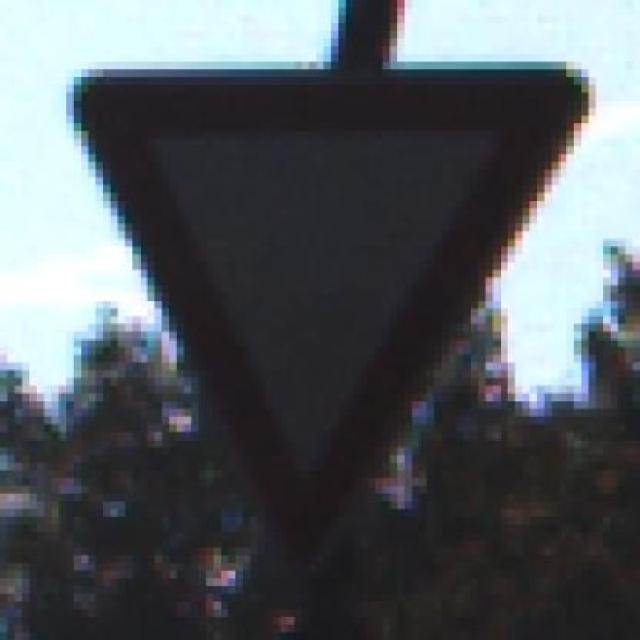Give Way: (66, 38, 589, 556)
